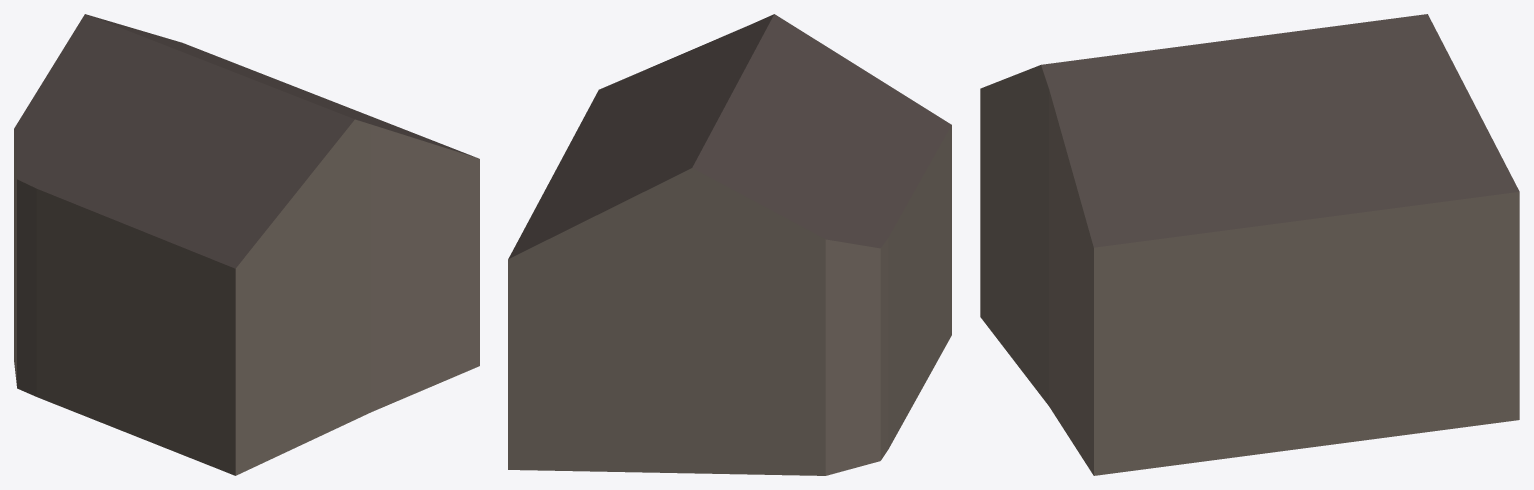
The picture shows the model from 3 angles, left to right: view 1: azimuth 30°, elevation 25°; view 2: azimuth 150°, elevation 25°; view 3: azimuth 270°, elevation 25°; orthographic projection. The views are drawn at different scales.
Visible parts, largest first — view 1: HP-w1198645066; view 2: HP-w1198645066; view 3: HP-w1198645066.
Part boxes in pixels (left/top/right/bottom): HP-w1198645066: left=14, top=14, right=479, bottom=475; HP-w1198645066: left=508, top=14, right=951, bottom=475; HP-w1198645066: left=980, top=14, right=1519, bottom=475.
Bounding box in the file's own units: 11.22 × 8.7 × 12.85.
